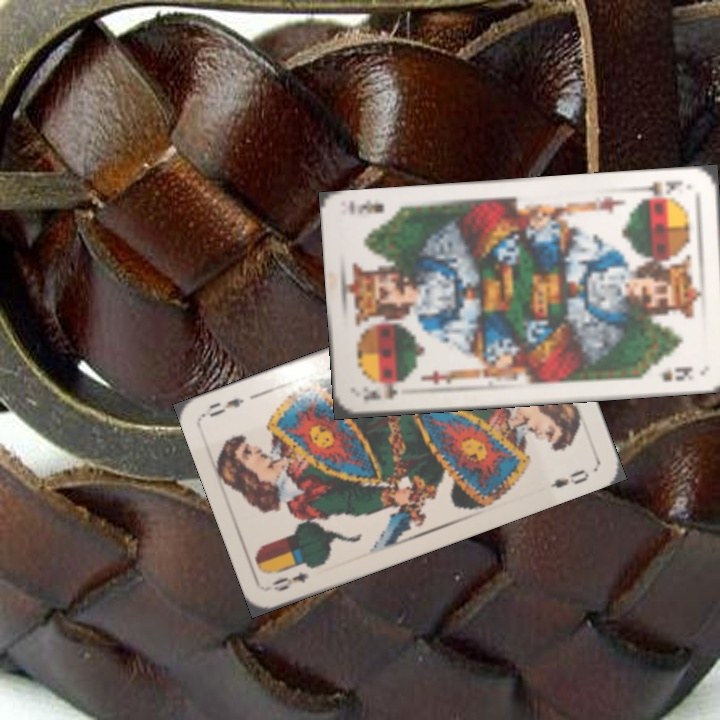EO: (268, 568, 312, 595)
SK: (634, 176, 686, 203), (359, 379, 409, 404)
